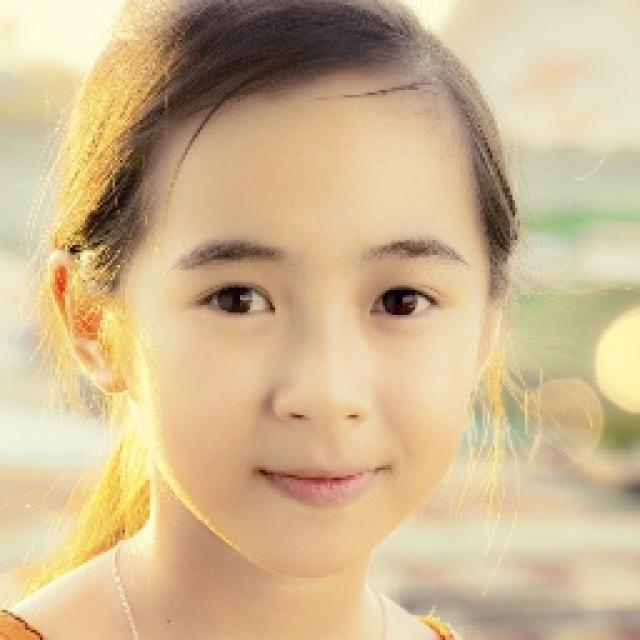earlobe: (48, 254, 129, 389), (472, 276, 508, 403)
